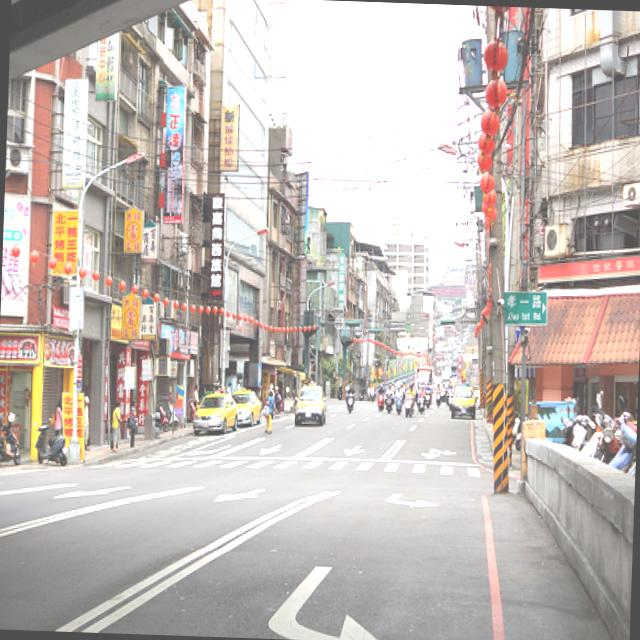Vehicle: (332, 380, 434, 412), (604, 392, 638, 472), (588, 389, 623, 465), (624, 349, 639, 494), (192, 392, 238, 437), (32, 418, 70, 466), (294, 378, 328, 426), (229, 388, 264, 426), (0, 405, 21, 468), (448, 384, 476, 418), (154, 400, 170, 431), (415, 367, 432, 384), (404, 392, 414, 418), (345, 393, 355, 413), (394, 394, 402, 415), (384, 392, 392, 413), (376, 392, 384, 412), (435, 390, 442, 406), (374, 382, 384, 392), (369, 388, 376, 402), (441, 373, 450, 382), (450, 372, 457, 376)
